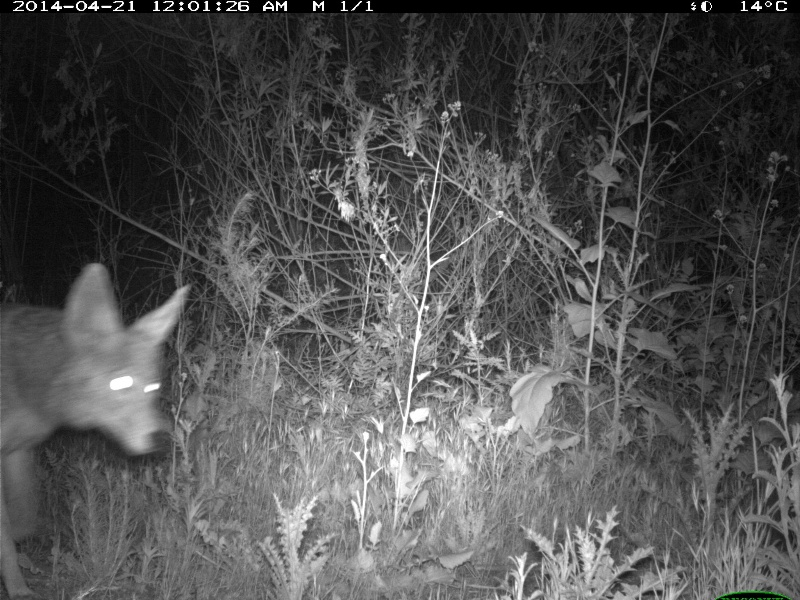coyote: (1, 265, 193, 599)
